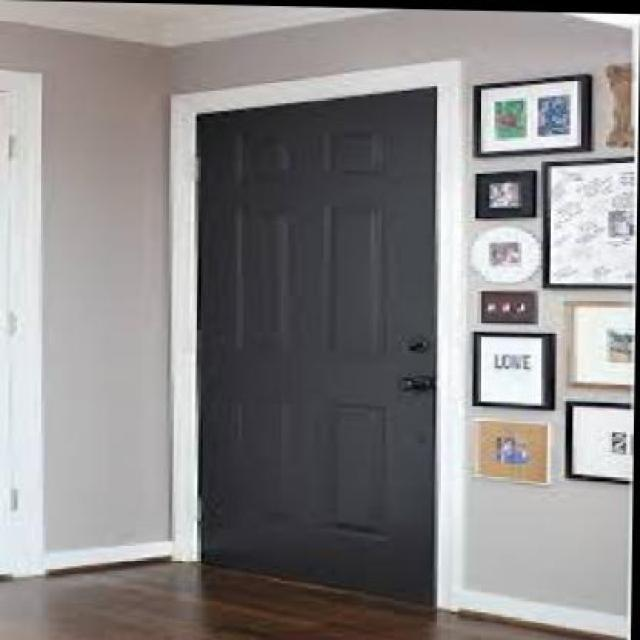door: (198, 87, 437, 601)
